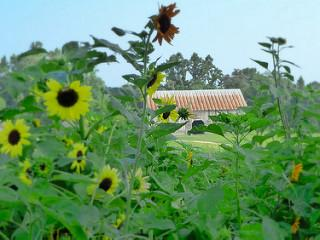sunflower: (41, 79, 93, 120), (0, 118, 31, 157), (90, 165, 118, 199)
